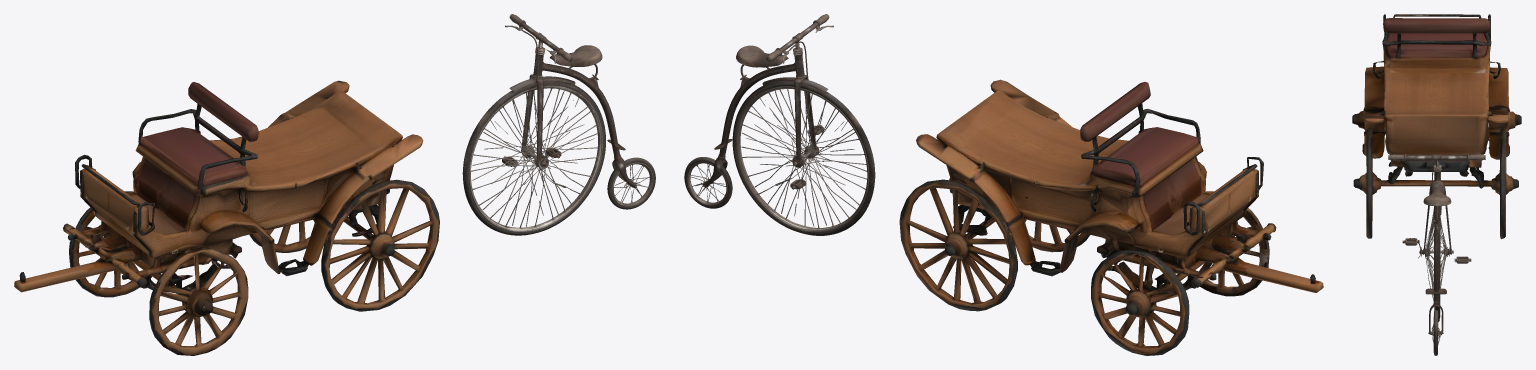
Rendered from VEI_B.glb.
The picture shows the model from 3 angles, left to right: view 1: azimuth 30°, elevation 25°; view 2: azimuth 150°, elevation 25°; view 3: azimuth 270°, elevation 25°; orthographic projection. The views are drawn at different scales.
Parts seen in each view (by area): view 1: V05, V04; view 2: V05, V04; view 3: V05, V04.
Boxes of the visible parts, bbox=[...] form: V05: bbox=[14, 80, 439, 355]; V04: bbox=[462, 14, 655, 235]; V05: bbox=[899, 79, 1323, 355]; V04: bbox=[684, 14, 875, 235]; V05: bbox=[1352, 14, 1521, 239]; V04: bbox=[1388, 154, 1485, 355].
Size of the model in its own units: 5 by 1.54 by 1.38.
Materials: 2 (2 with a texture image).
